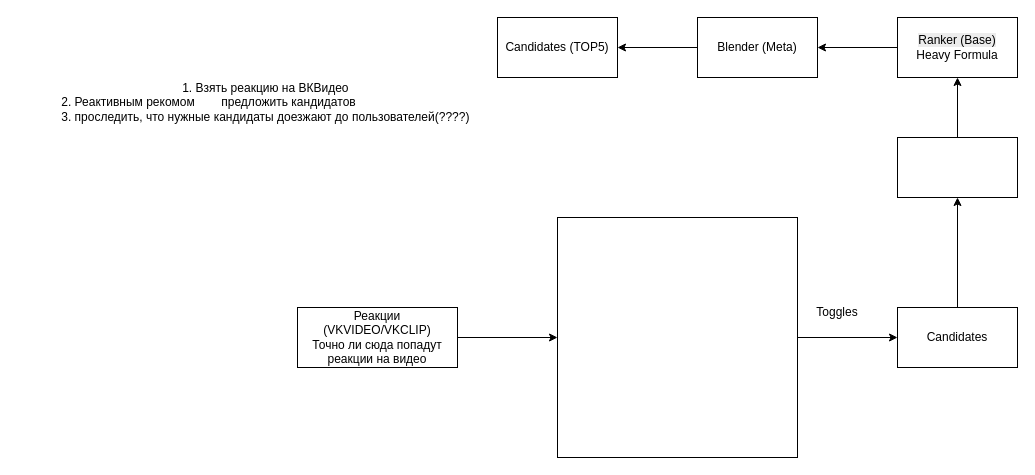
Image size: 1035x475. Some labels were removed from this diagram. The centre of each missing label's shape, as x and y in pixels:
Ranker (Base) Light Formula: point (957, 167)
ReactiveRecom (BlackBox) Retrieval Cadidates (selector i2i): point (677, 337)
